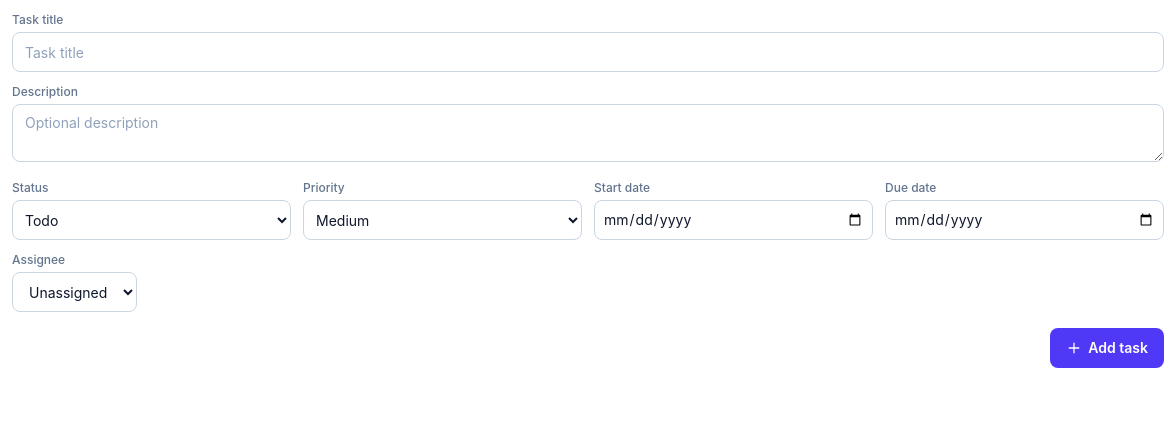
Test: TaskForm (create mode) › requires a title before submitting
The image size is (1176, 431).
Click the button "Add task". click: (1107, 348)
box: [1050,328,1164,368]
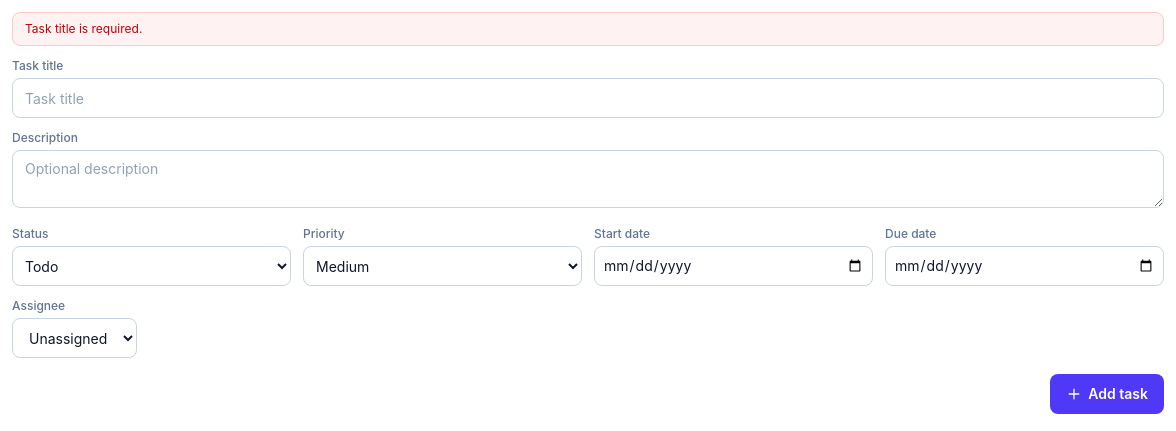
Expected: the message shows "Task title is required", [25,21,142,36]
